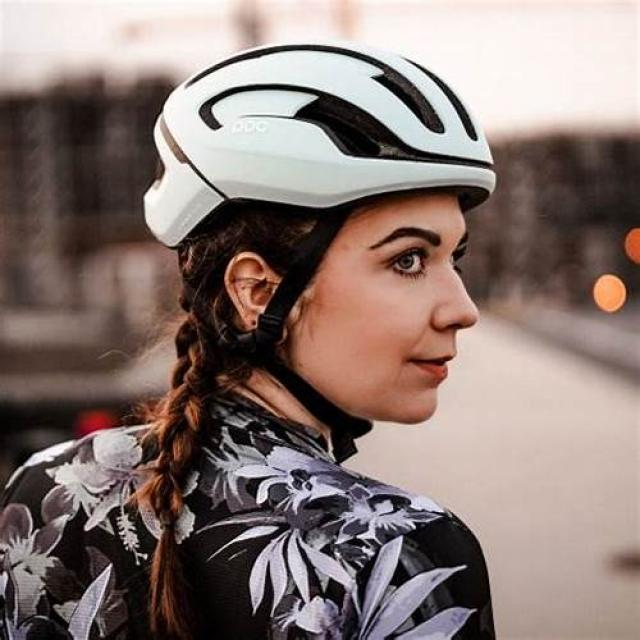illegal_helmet: (139, 36, 502, 443)
